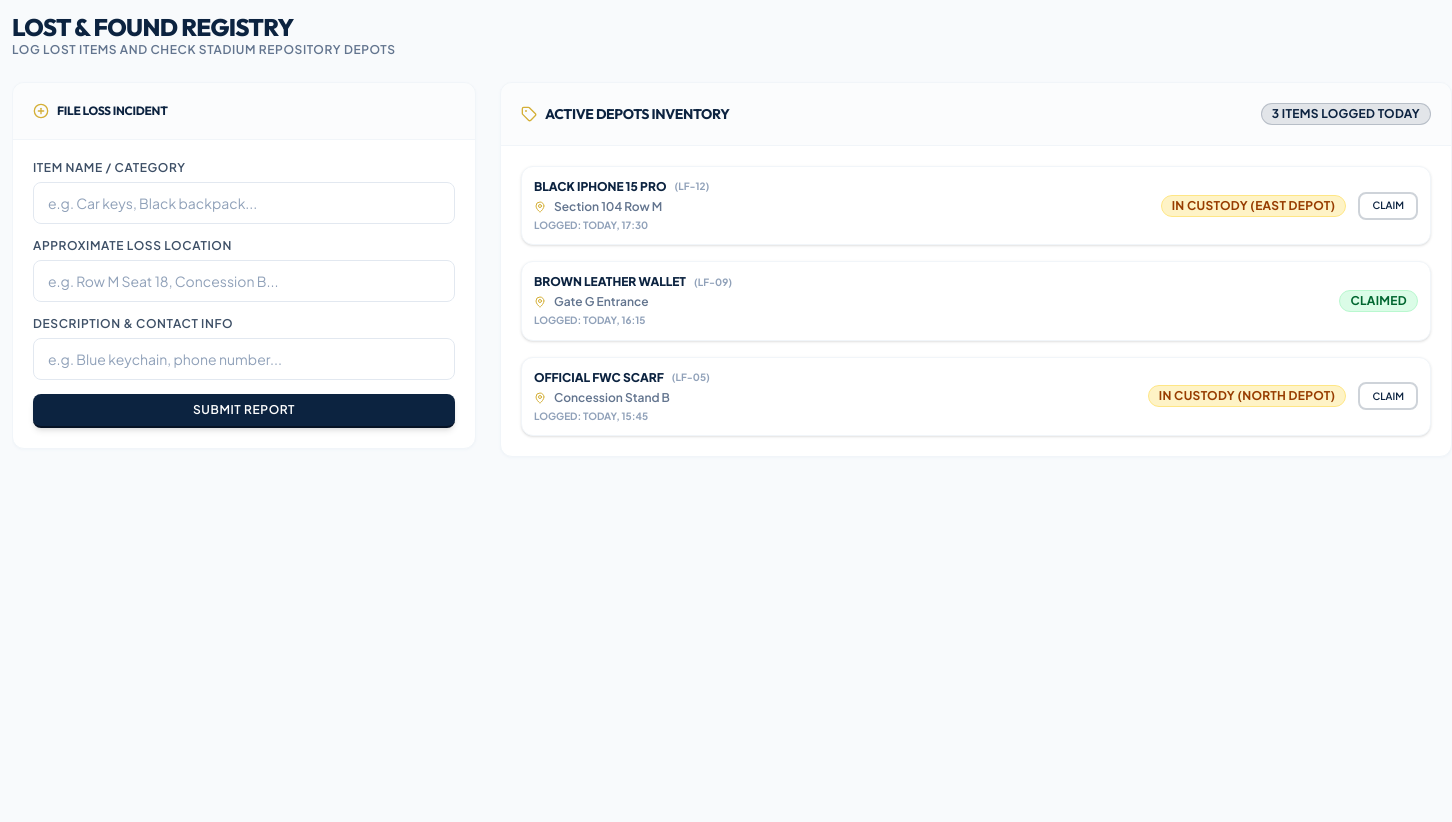
Test case: LostAndFound Component › submits a new loss report successfully
The image size is (1452, 822).
Type "Golden Keyring" into the field labelled "Item Name / Category" at (244, 203), box left=33, top=182, right=455, bottom=224
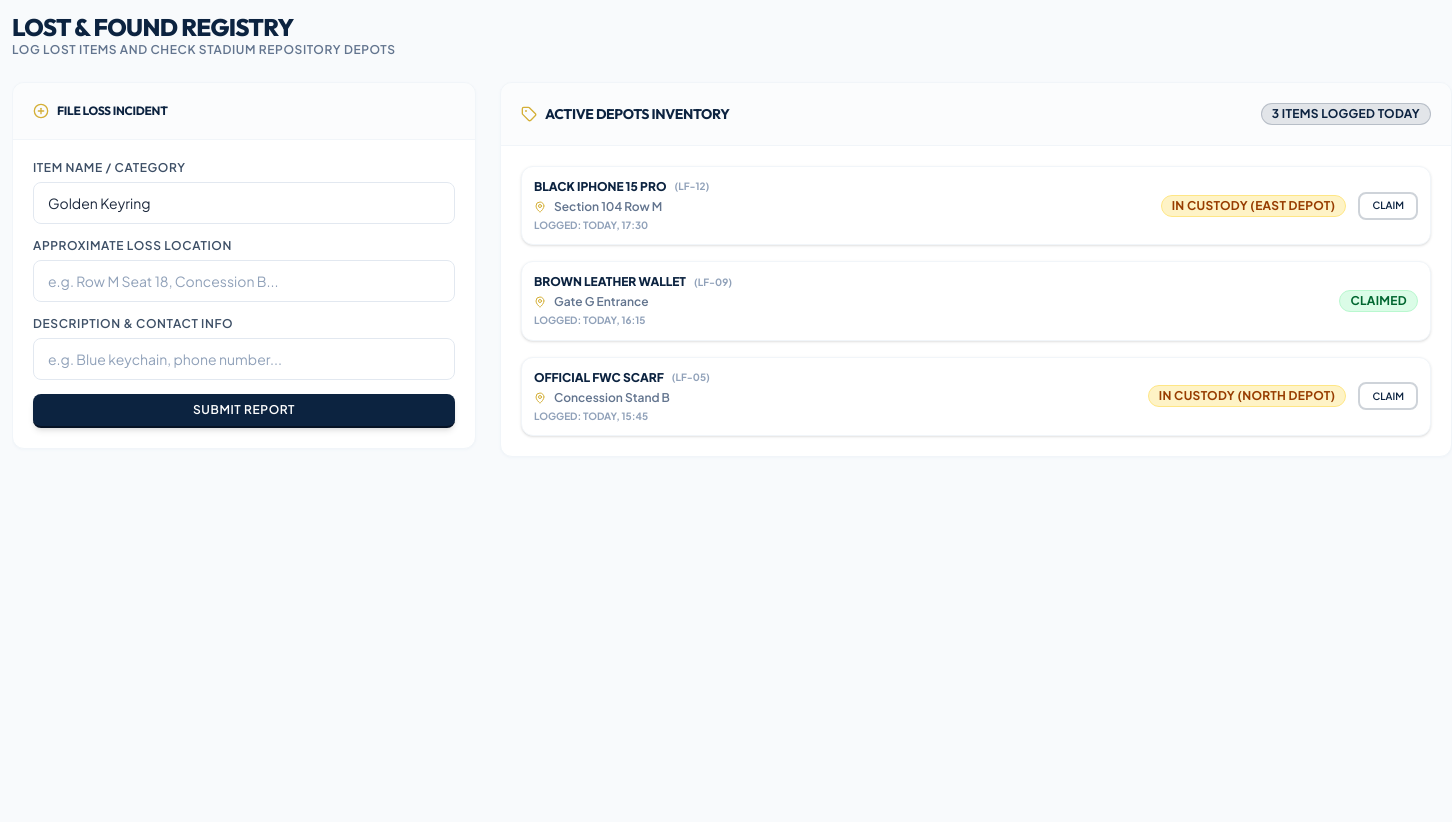
Type "Section 204" into the field labelled "Approximate Loss Location" at (244, 281), box left=33, top=260, right=455, bottom=302
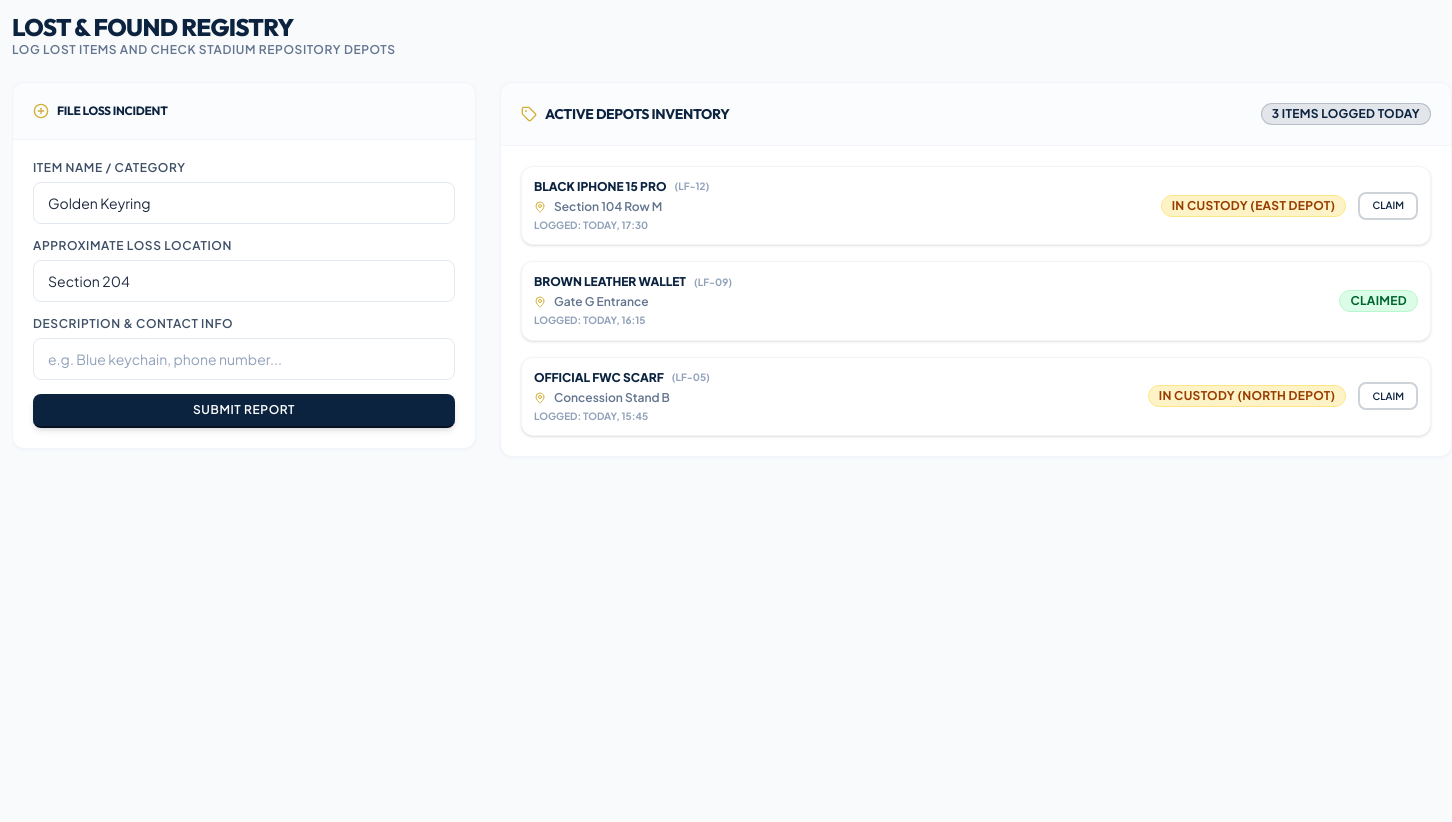
Type "Contact 555" into the field labelled "Description & Contact info" at (244, 359), box left=33, top=338, right=455, bottom=380
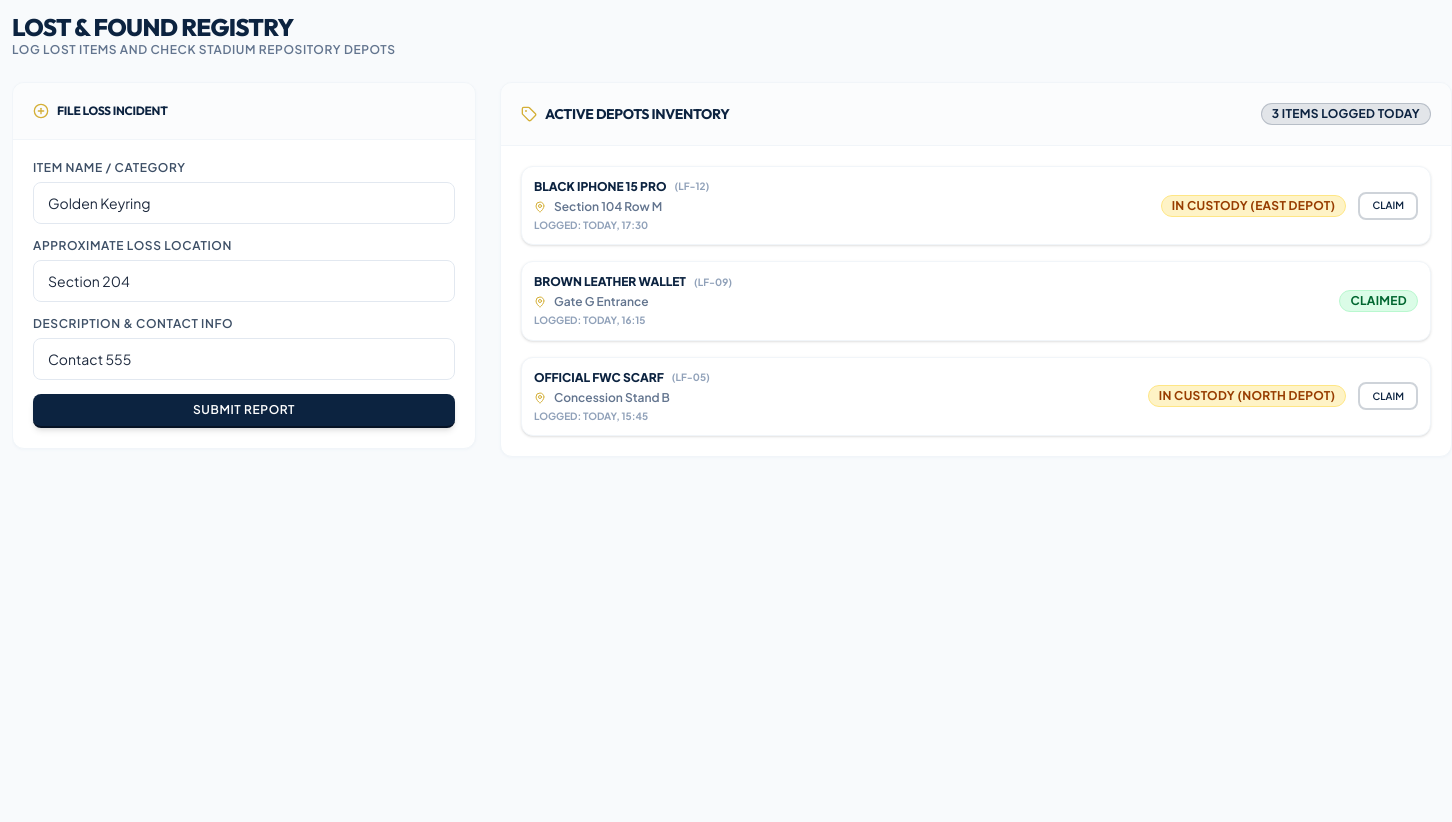
Click the button "SUBMIT REPORT" at (244, 411), box left=33, top=394, right=455, bottom=428
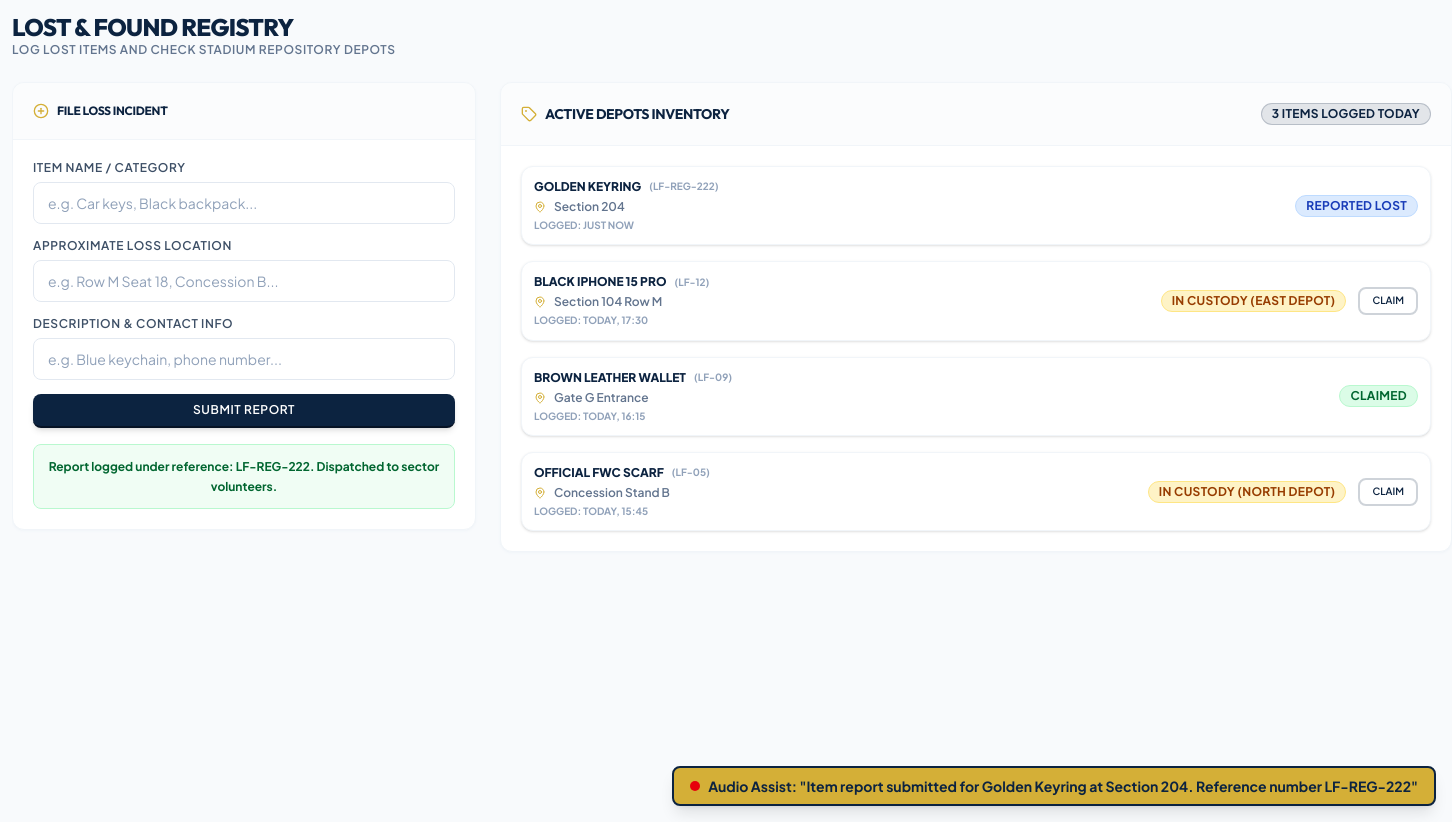
Expected: the text "Golden Keyring" is shown, left=534, top=179, right=641, bottom=195
Expected: the text "Section 204" is shown, left=554, top=199, right=625, bottom=215
